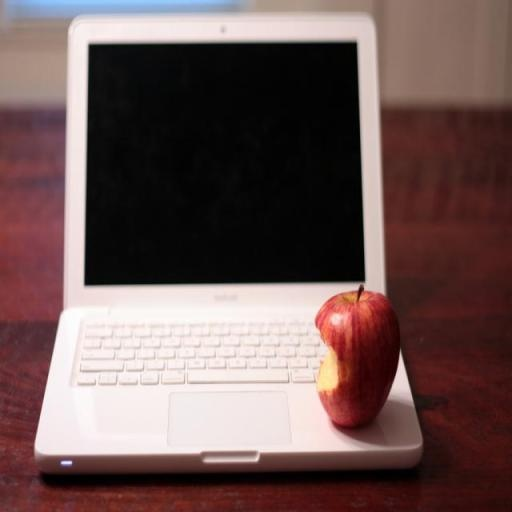fruit: (315, 285, 399, 426)
